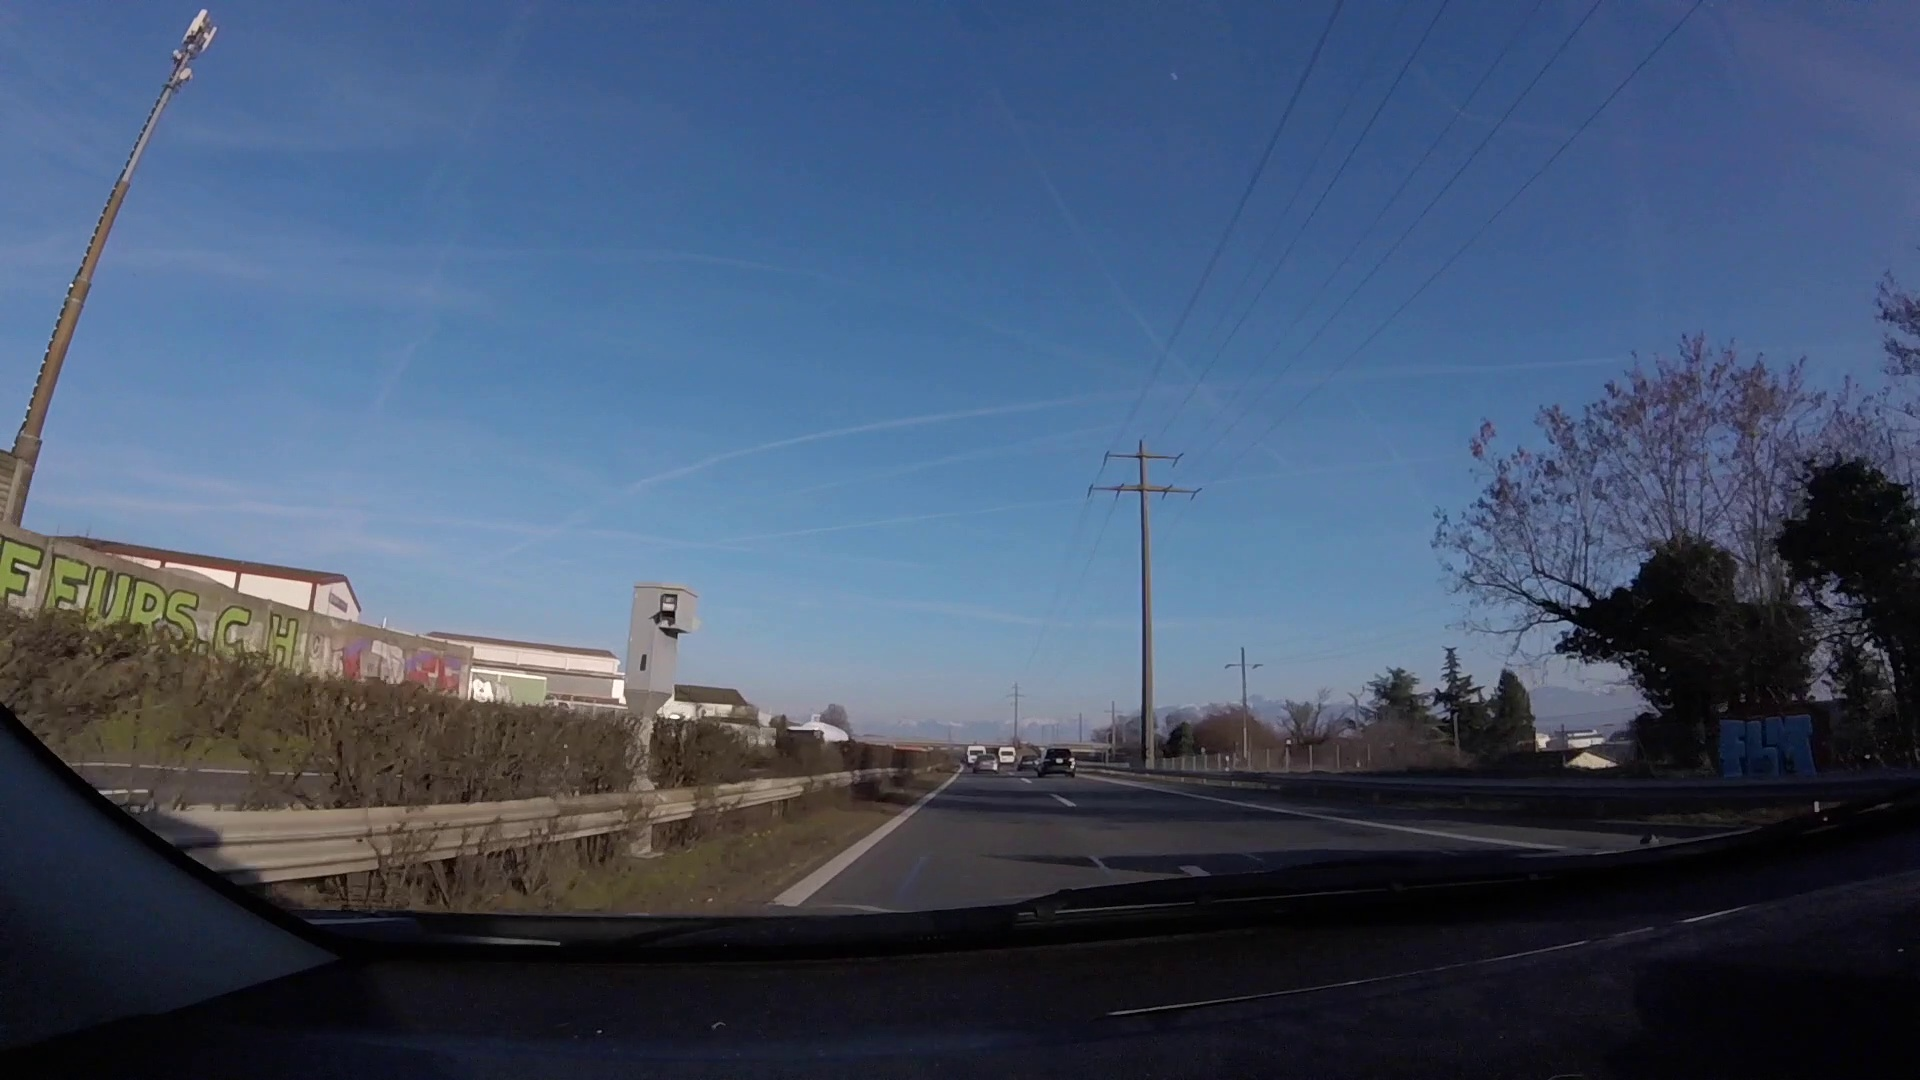radar: (620, 578, 707, 746)
